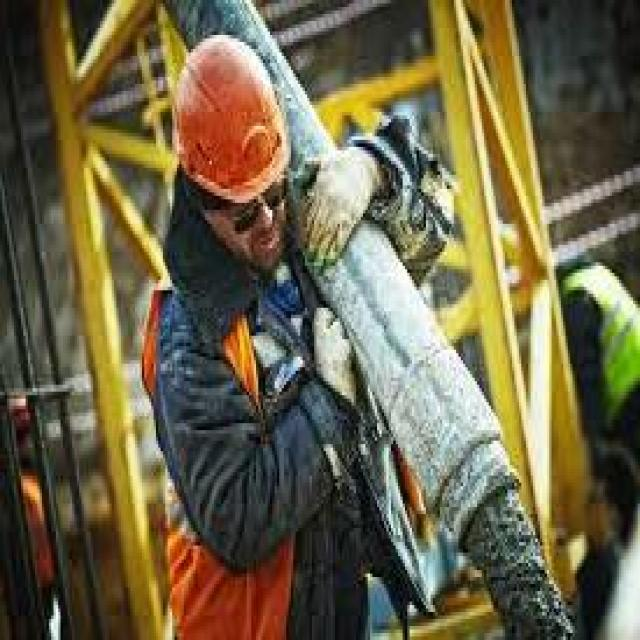Reflective-Jacket: (121, 259, 366, 640), (552, 252, 640, 452)
Safety-Helmet: (165, 31, 289, 210)
